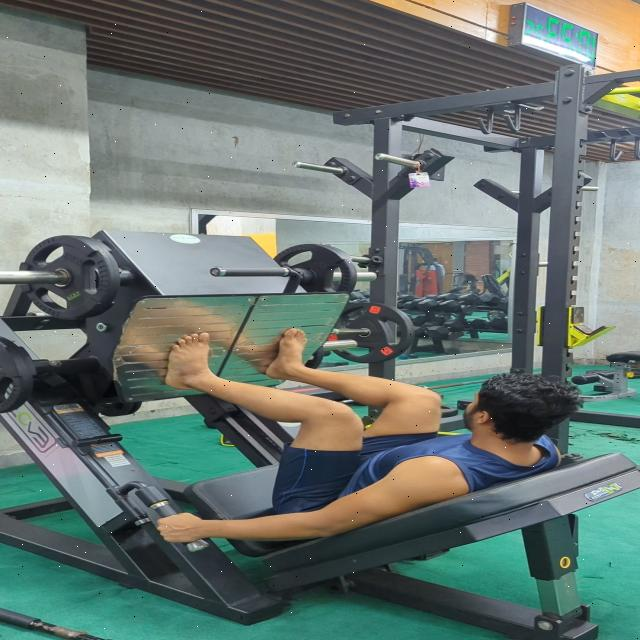Normal_LegPress: (124, 324, 598, 548)
